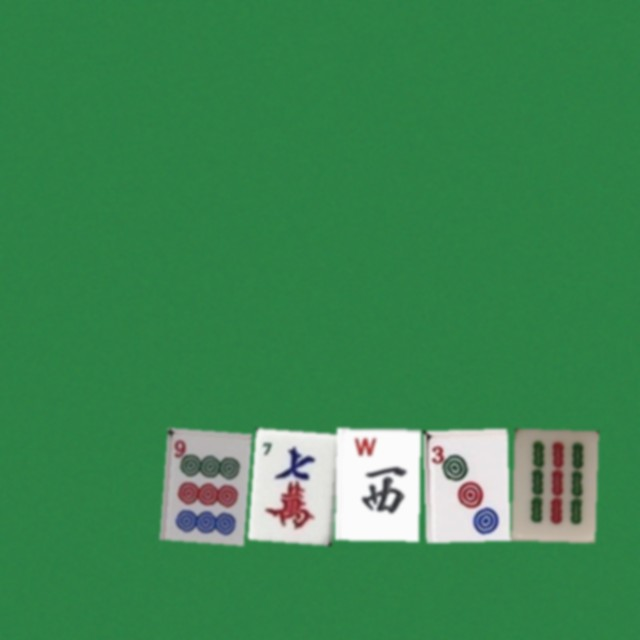tile: (159, 428, 243, 540), (247, 428, 331, 540), (335, 428, 419, 540), (423, 428, 507, 540), (511, 428, 595, 540)
